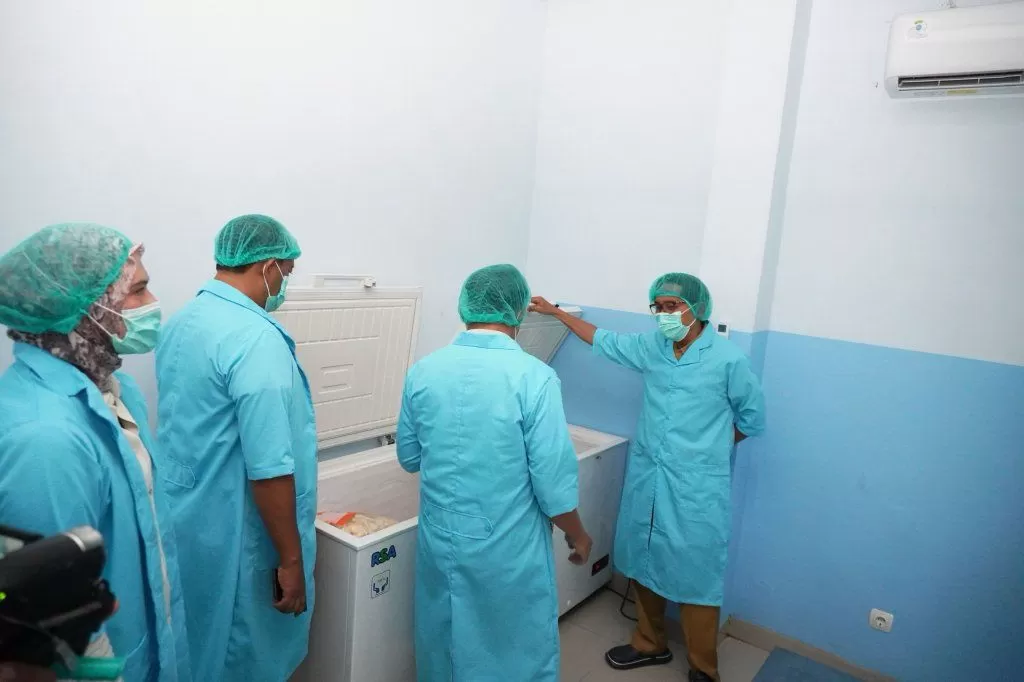cap: (428, 252, 548, 343), (194, 205, 323, 279), (78, 206, 148, 313), (643, 253, 747, 321)
